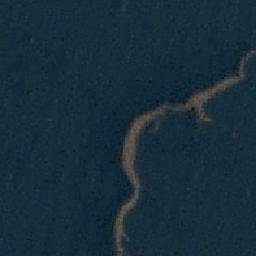debris: (122, 115, 138, 172), (112, 207, 127, 245), (150, 102, 197, 114), (188, 91, 213, 104), (138, 114, 164, 126), (129, 173, 141, 199), (237, 55, 249, 80), (195, 101, 209, 121), (212, 79, 235, 90), (123, 199, 135, 207)
